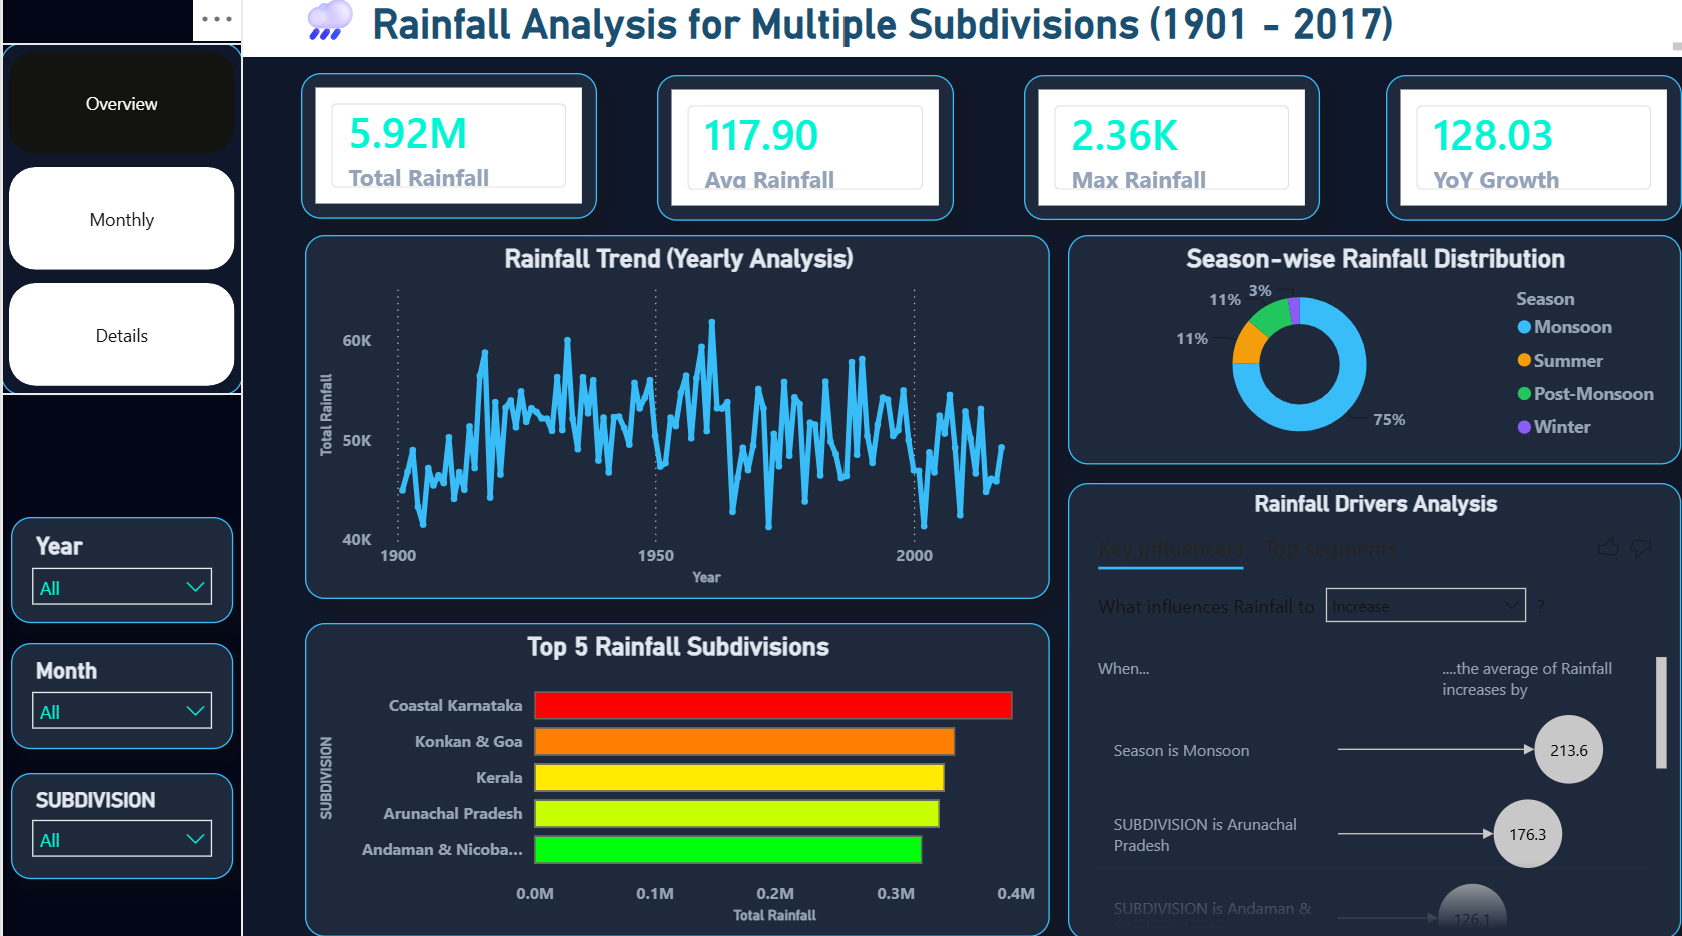

Layout of this report page (visuals, bound fields, positions):
{"tool":"powerbi","page":{"name":"Overview ","canvas":[1280,720],"ordinal":0},"visuals":[{"type":"cardVisual","fields":{"Data":["Sub_Division_IMD_2017.Total Rainfall"]},"box":[227.5,63.7,224.5,110.7],"z":0},{"type":"cardVisual","fields":{"Data":["Sub_Division_IMD_2017.YoY Growth"]},"box":[1049.5,65.2,224.5,110.7],"z":1000},{"type":"cardVisual","fields":{"Data":["Sub_Division_IMD_2017.Max Rainfall"]},"box":[775,65.2,224.5,110],"z":2000},{"type":"cardVisual","fields":{"Data":["Sub_Division_IMD_2017.Avg Rainfall"]},"box":[497.4,65.2,224.5,110.7],"z":3000},{"type":"lineChart","title":"Rainfall Trend (Yearly Analysis)","fields":{"Category":["Sub_Division_IMD_2017.Year"],"Y":["Sub_Division_IMD_2017.Total Rainfall"]},"box":[230.5,186.5,564.2,276],"z":4000},{"type":"clusteredBarChart","title":"Top 5 Rainfall Subdivisions","fields":{"Category":["Sub_Division_IMD_2017.SUBDIVISION"],"Y":["Sub_Division_IMD_2017.Total Rainfall"]},"box":[230.5,480.8,564.2,238.1],"z":5000},{"type":"donutChart","title":"Season-wise Rainfall Distribution","fields":{"Category":["Sub_Division_IMD_2017.Season"],"Y":["Sub_Division_IMD_2017.Total Rainfall"]},"box":[808.5,186.7,465.2,174],"z":6000},{"type":"textbox","box":[0,0,1280,51.6],"z":7000},{"type":"shape","box":[0,0,183.5,720.4],"z":8000,"group":"g1"},{"type":"keyDriversVisual","title":"Rainfall Drivers Analysis","fields":{"ExplainBy":["Sub_Division_IMD_2017.Season","Sub_Division_IMD_2017.SUBDIVISION"],"Target":["Sub_Division_IMD_2017.Rainfall"]},"box":[808.5,375,465.2,346.5],"z":8000},{"type":"group","id":"g1","title":"Group 1","box":[0,0,183.5,720.4],"z":9000},{"type":"slicer","fields":{"Values":["Sub_Division_IMD_2017.Year"]},"box":[7.6,400.4,168.3,80.4],"z":9000,"group":"g1"},{"type":"slicer","fields":{"Values":["Sub_Division_IMD_2017.SUBDIVISION"]},"box":[7.6,594.5,168.3,80.4],"z":10000,"group":"g1"},{"type":"bookmarkNavigator","box":[0,40.9,183.5,266.9],"z":11000,"group":"g1"},{"type":"slicer","fields":{"Values":["Month Table.Month"]},"box":[7.6,495.9,168.3,80.4],"z":12001,"group":"g1"}]}

Visuals, with their boxes on the page's 1280x720 design canvas (x1, y1, x2, y2). These are canvas units, not pixel positions in the 1682x936 screenshot, which may show the page scaled, cropped or inside an application window:
cardVisual - Sub_Division_IMD_2017.Total Rainfall: left=228, top=64, right=452, bottom=174
cardVisual - Sub_Division_IMD_2017.YoY Growth: left=1050, top=65, right=1274, bottom=176
cardVisual - Sub_Division_IMD_2017.Max Rainfall: left=775, top=65, right=1000, bottom=175
cardVisual - Sub_Division_IMD_2017.Avg Rainfall: left=497, top=65, right=722, bottom=176
"Rainfall Trend (Yearly Analysis)" lineChart: left=230, top=186, right=795, bottom=462
"Top 5 Rainfall Subdivisions" clusteredBarChart: left=230, top=481, right=795, bottom=719
"Season-wise Rainfall Distribution" donutChart: left=808, top=187, right=1274, bottom=361
textbox: left=0, top=0, right=1280, bottom=52
shape: left=0, top=0, right=184, bottom=720
"Rainfall Drivers Analysis" keyDriversVisual: left=808, top=375, right=1274, bottom=722
"Group 1" group: left=0, top=0, right=184, bottom=720
slicer - Sub_Division_IMD_2017.Year: left=8, top=400, right=176, bottom=481
slicer - Sub_Division_IMD_2017.SUBDIVISION: left=8, top=594, right=176, bottom=675
bookmarkNavigator: left=0, top=41, right=184, bottom=308
slicer - Month Table.Month: left=8, top=496, right=176, bottom=576
